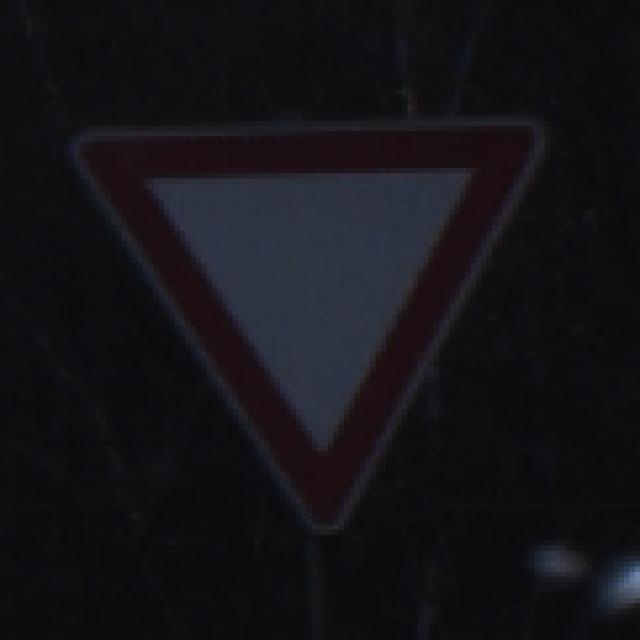Give Way: (54, 59, 588, 589)
